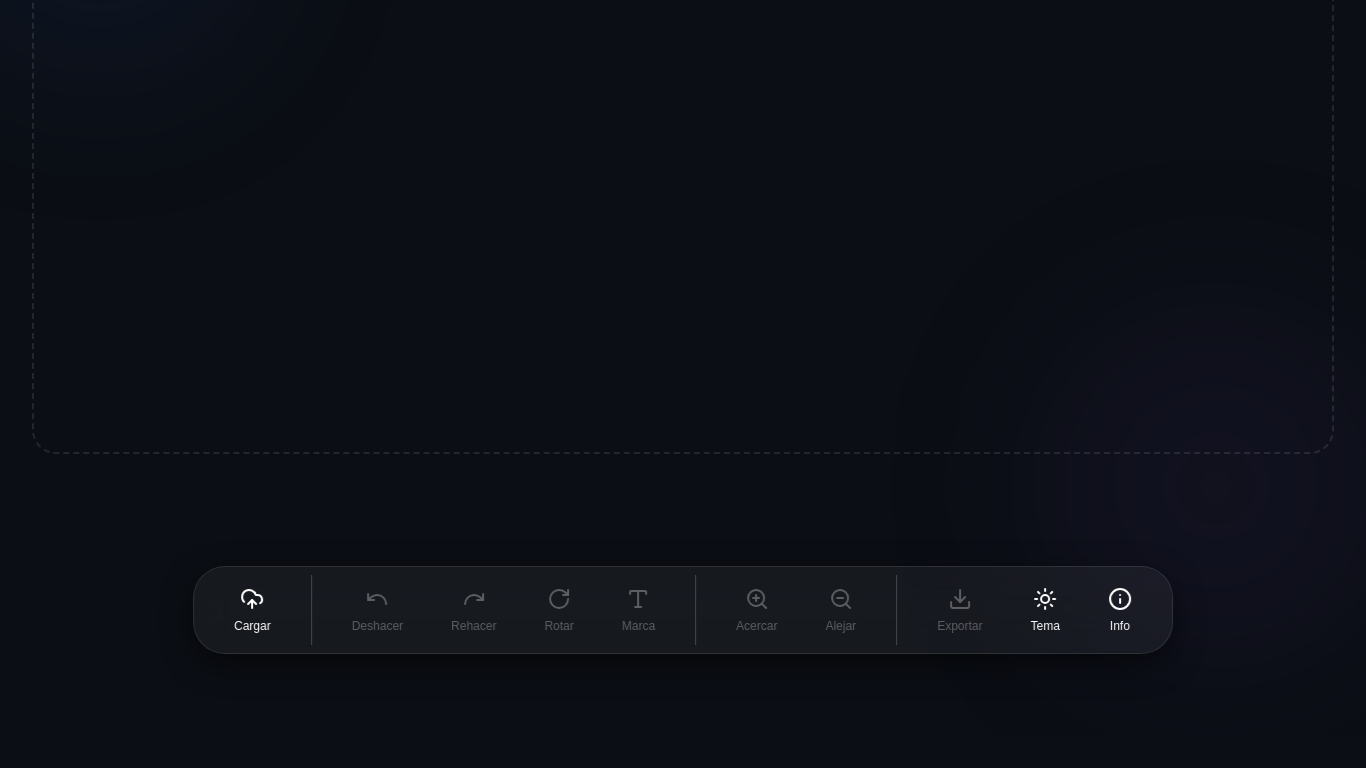
Test: PixelForge V5 - Suite de Pruebas › Debe abrir el modal de información de la V5
(page scrolled)
Check: the text "PixelForge V5" is not shown
# Click en Info
Click the button "Info" at (1120, 610), box [1092, 575, 1148, 645]
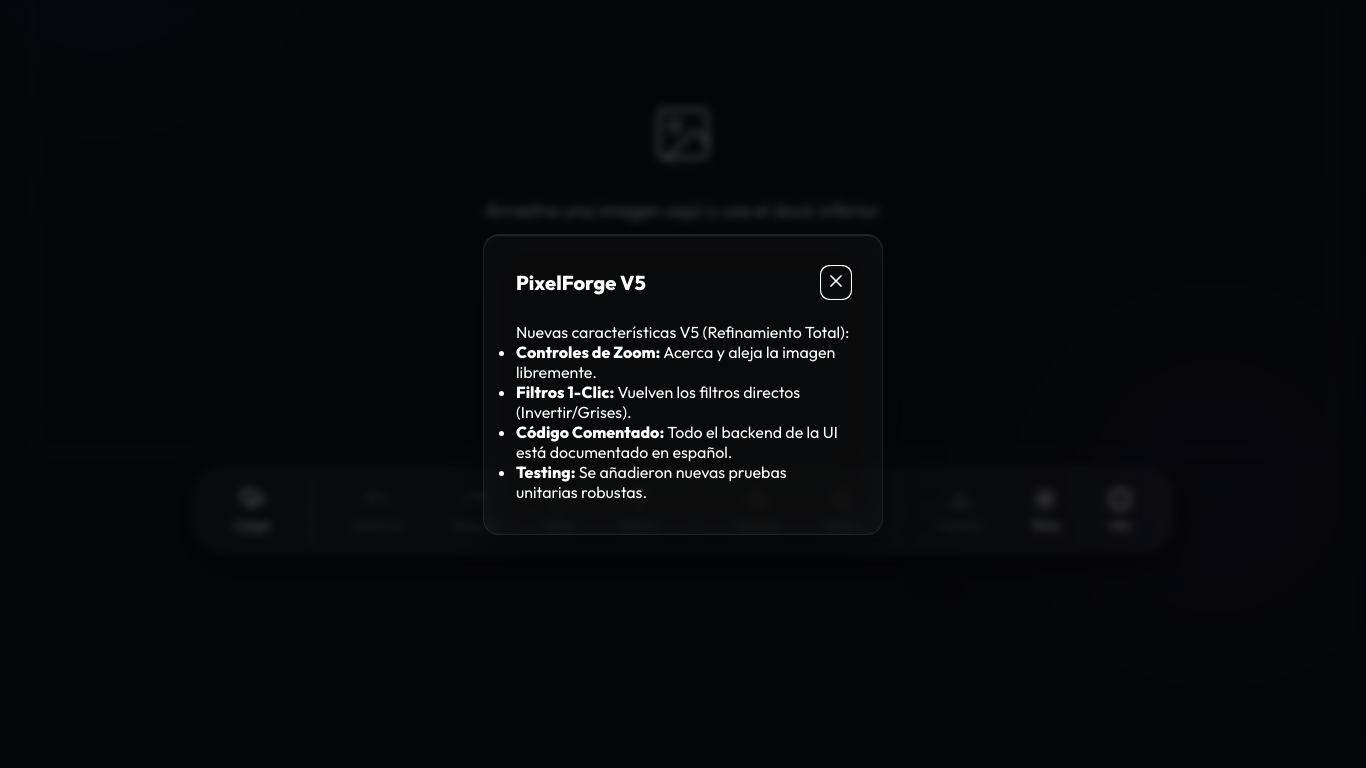
Check: the heading "PixelForge V5" is shown, box [516, 270, 646, 294]
Check: the text "Controles de Zoom:" is shown, box [516, 342, 660, 362]
